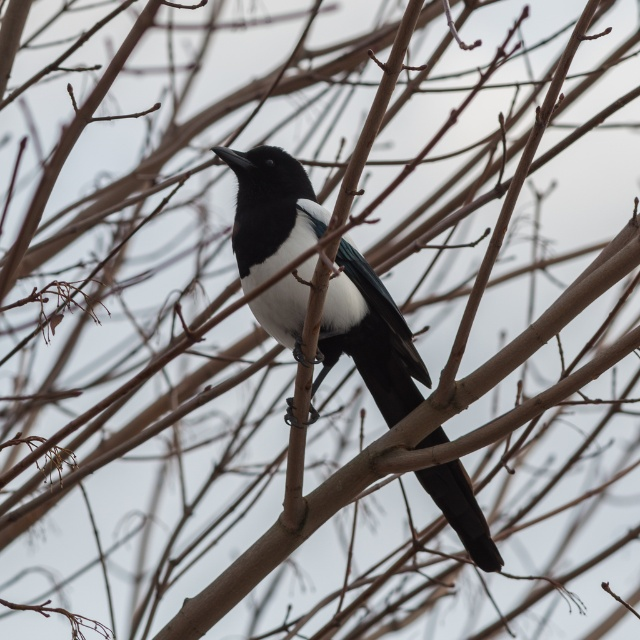Magpie: (210, 148, 504, 573)
